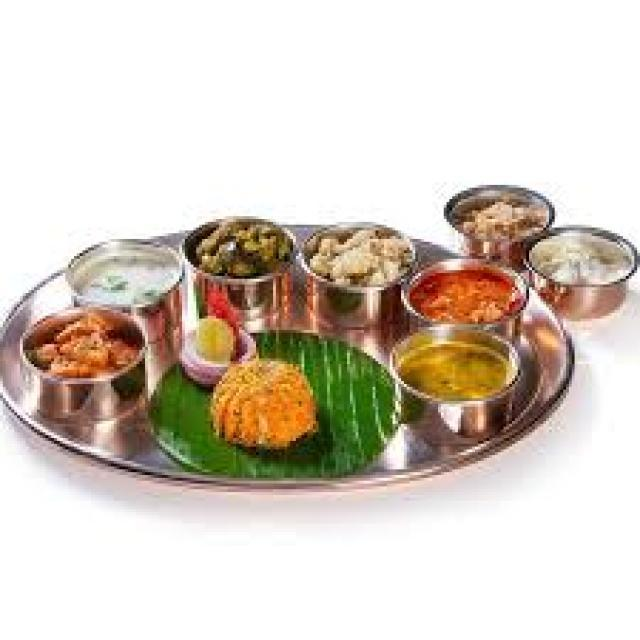dal: (388, 327, 529, 417)
rice: (202, 352, 333, 454), (71, 243, 180, 314)
sweet: (532, 274, 625, 324)
veg-fry: (17, 303, 153, 390), (397, 260, 533, 335)
